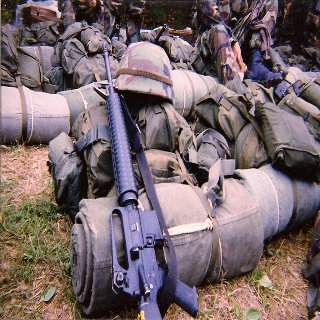rifle: (101, 40, 199, 320)
